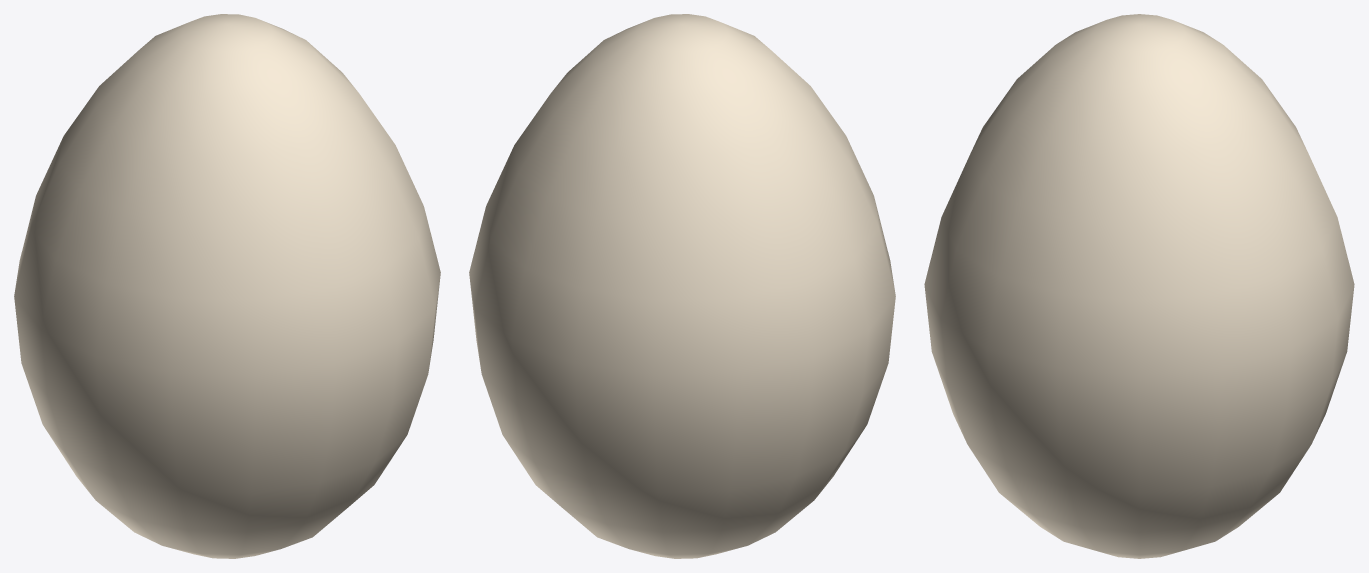
Rendered from Egg.glb.
3 views of the same model, side by side, from view 1: azimuth 30°, elevation 25°; view 2: azimuth 150°, elevation 25°; view 3: azimuth 270°, elevation 25° (orthographic).
Visible parts, largest first — view 1: Egg; view 2: Egg; view 3: Egg.
Part boxes in pixels (x1,y1,x2,y2): Egg: (14,14,440,558); Egg: (469,14,895,558); Egg: (924,14,1354,558).
Bounding box in the file's own units: 0.06 × 0.08 × 0.06.
